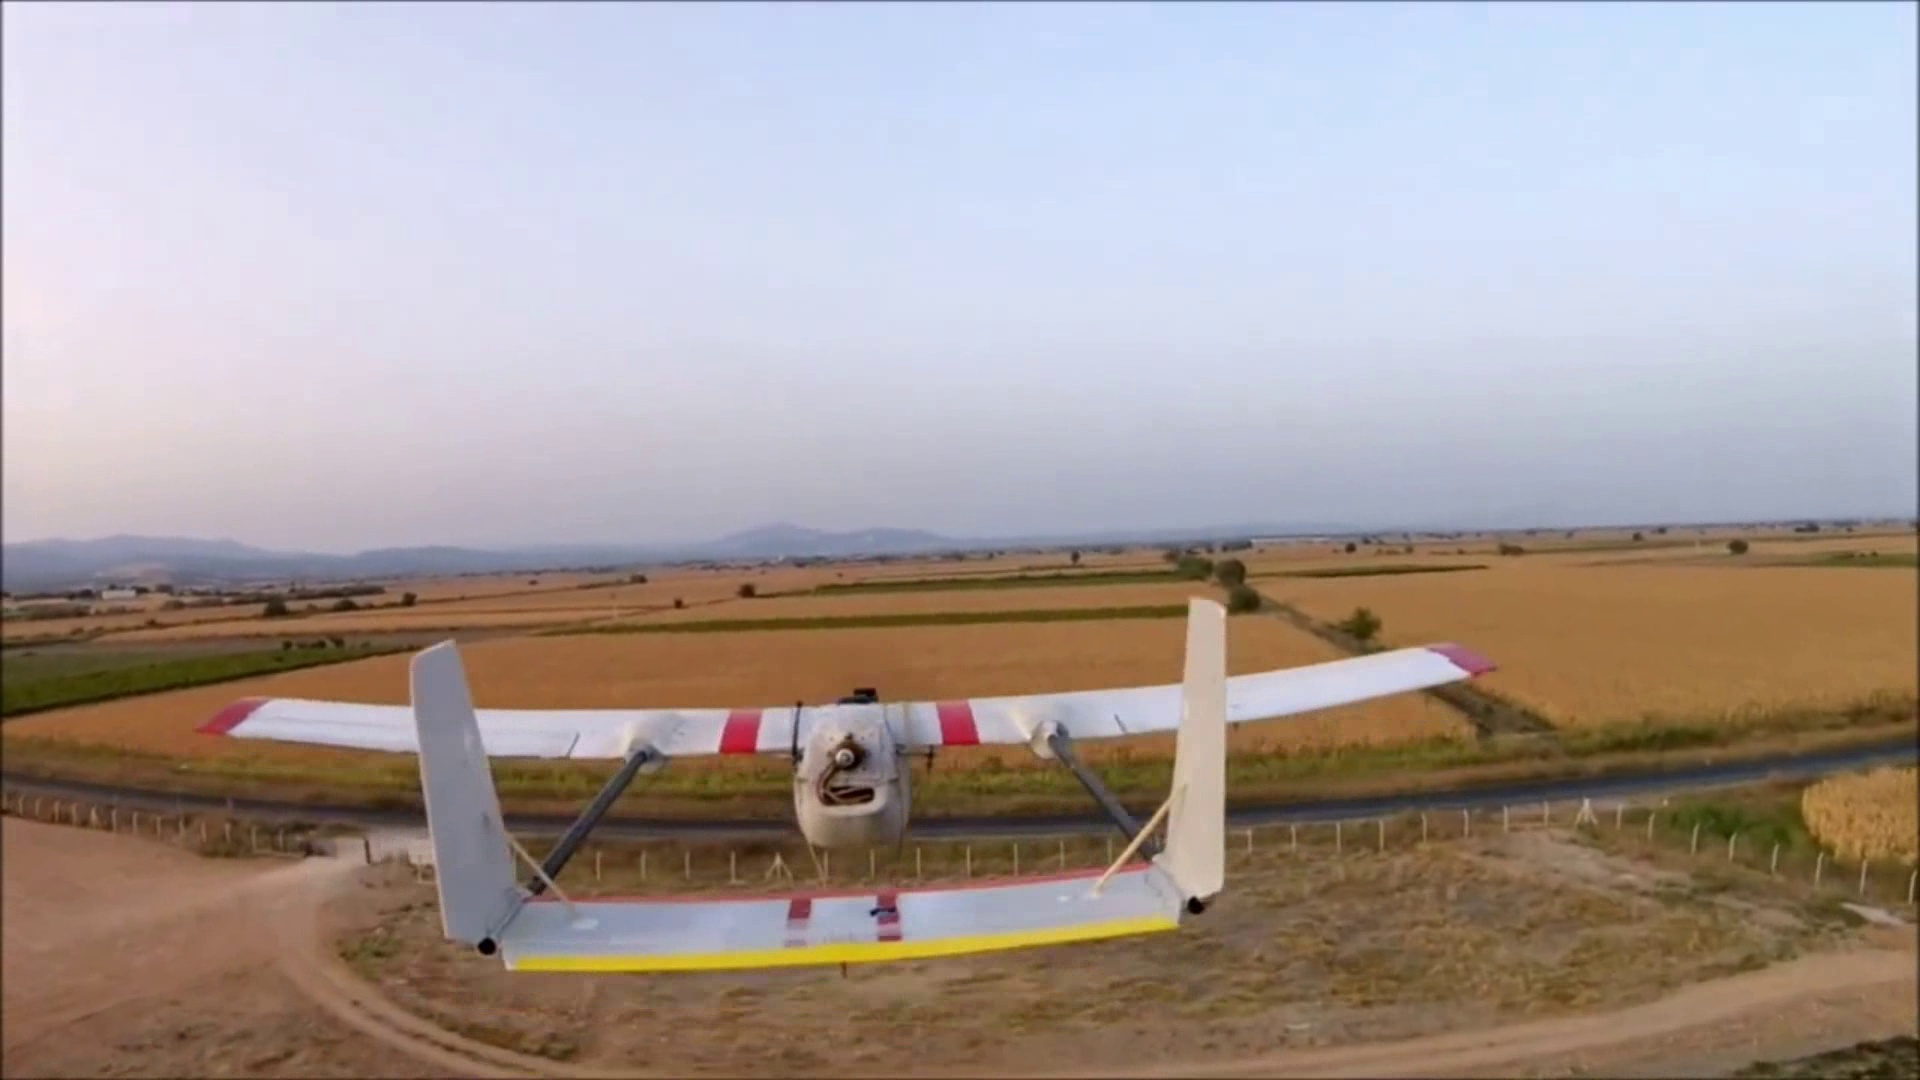airplane: (121, 603, 1495, 978)
